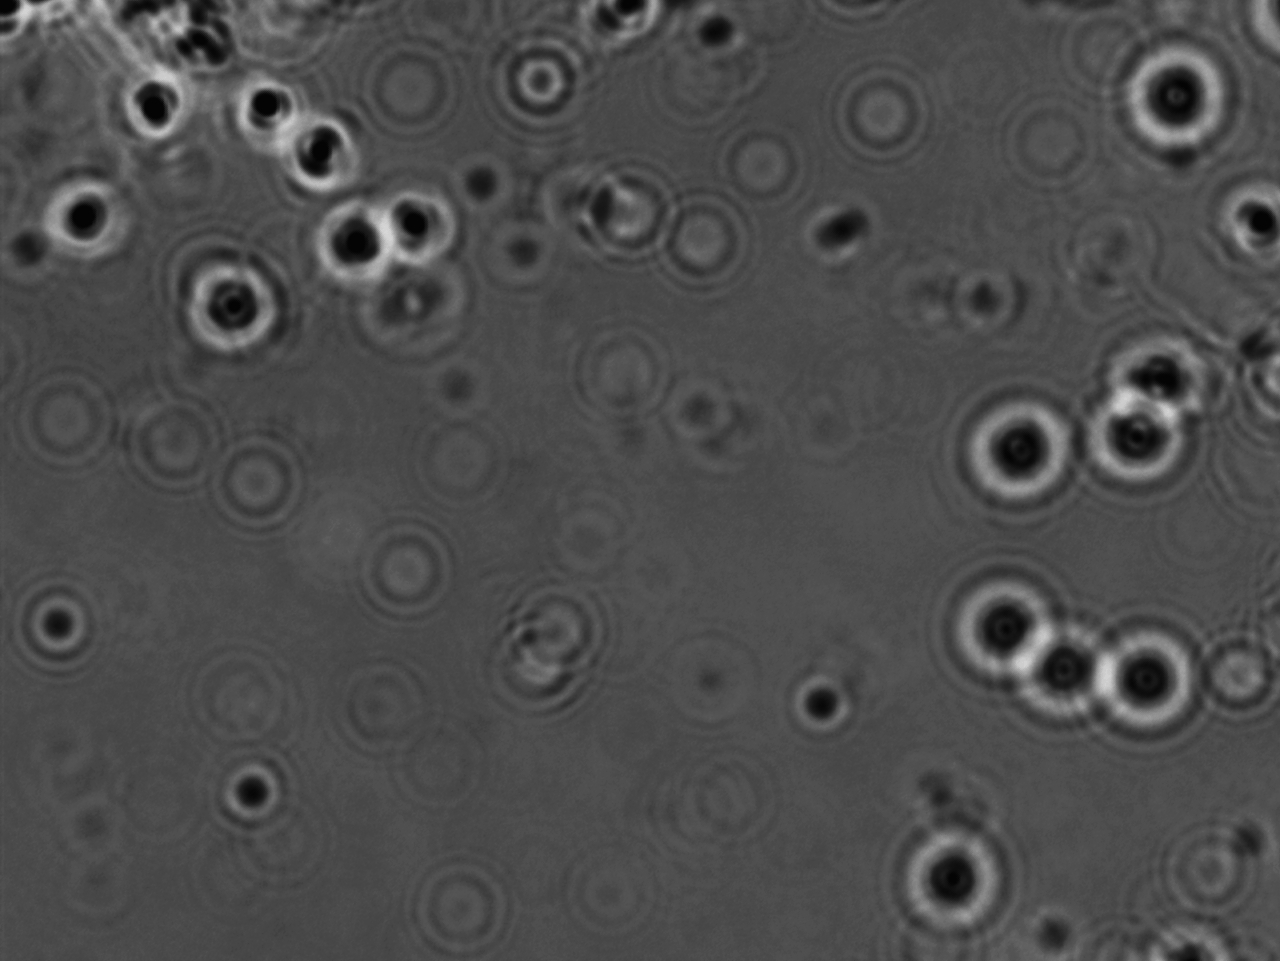depth:-16: (921, 551, 1075, 697), (1082, 610, 1222, 758), (940, 379, 1085, 518), (1109, 31, 1255, 162), (878, 810, 1017, 939), (1073, 366, 1201, 505), (1008, 607, 1135, 747), (167, 247, 296, 365), (289, 190, 421, 300), (23, 165, 146, 280), (369, 169, 497, 276)
